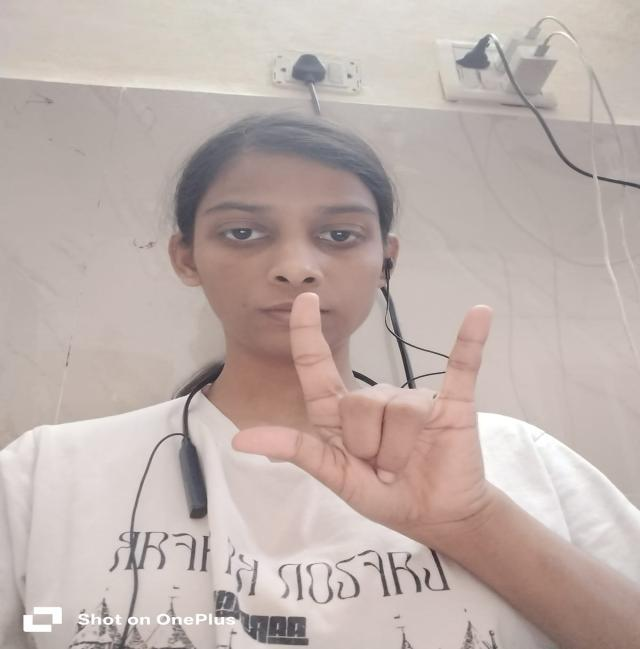I Love You: (221, 281, 530, 539)
